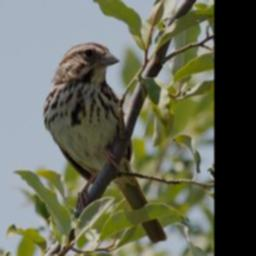Sparrow: (44, 41, 168, 243)
